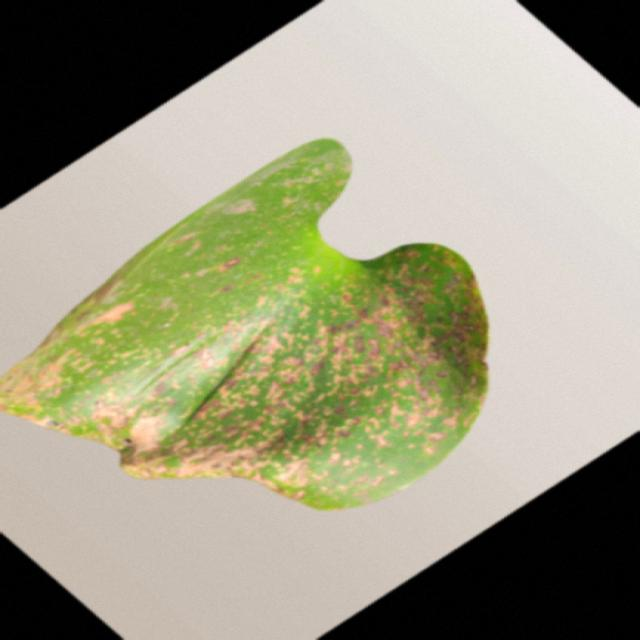daun berpenyakit bercak: (2, 141, 488, 510)
